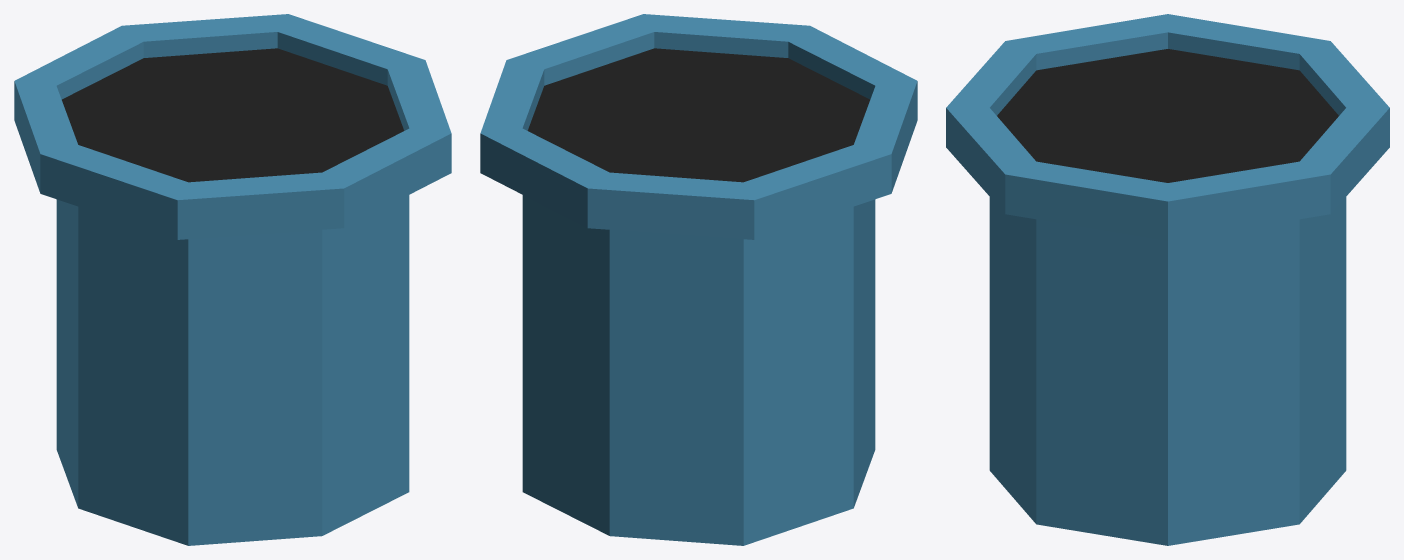
Rendered from ObjectSpawner.fbx.
3 views of the same model, side by side, from view 1: azimuth 30°, elevation 25°; view 2: azimuth 150°, elevation 25°; view 3: azimuth 270°, elevation 25° (orthographic).
Visible parts, largest first — view 1: Cube; view 2: Cube; view 3: Cube.
Part boxes in pixels (x1,y1,x2,y2): Cube: [14, 14, 451, 545]; Cube: [480, 14, 917, 545]; Cube: [946, 14, 1389, 545].
Size of the model in its own units: 2.49 by 2.25 by 2.49.
